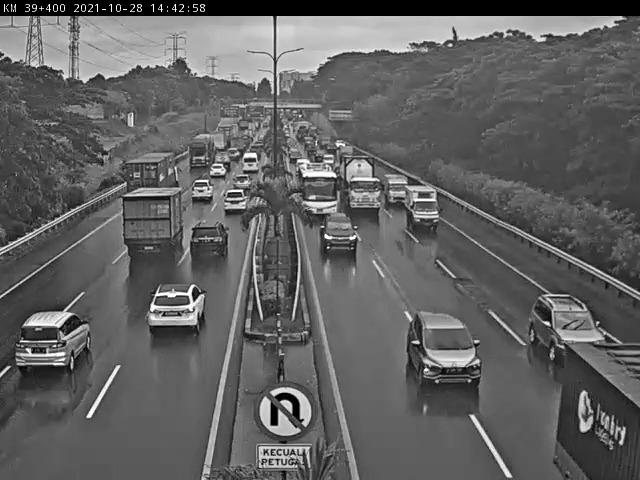big bus: (298, 162, 339, 219)
big truck: (120, 185, 177, 252), (338, 154, 381, 214), (130, 149, 182, 196)
car: (407, 311, 484, 392), (531, 292, 605, 369), (13, 311, 92, 373), (146, 282, 207, 334), (319, 210, 361, 258), (189, 220, 231, 258), (226, 184, 249, 209), (194, 175, 216, 200)
small truck: (409, 185, 448, 235), (386, 174, 415, 212)
